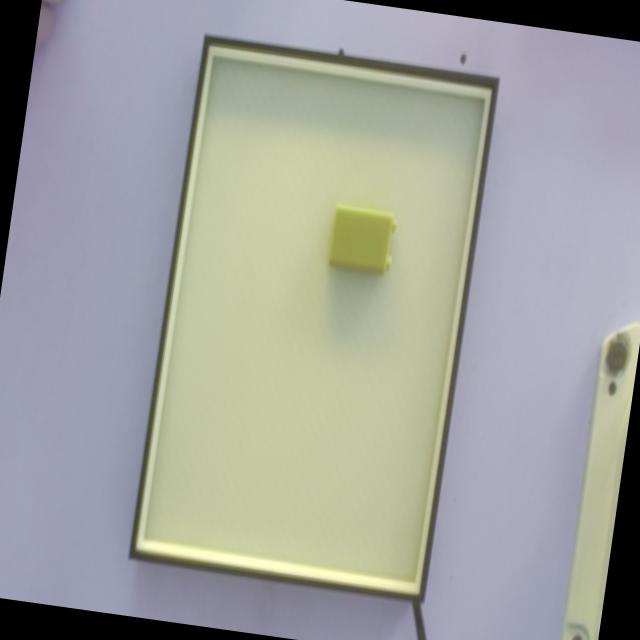bateria: (327, 205, 399, 278)
mesa: (128, 34, 500, 604)
